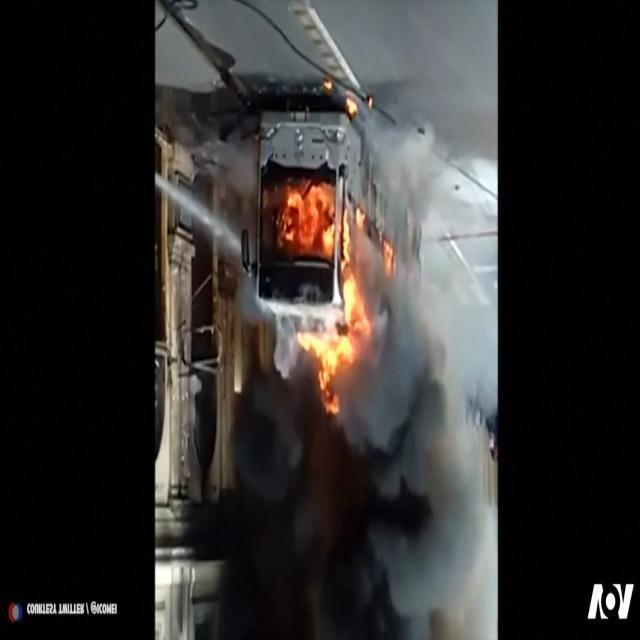fire: (264, 180, 400, 417)
